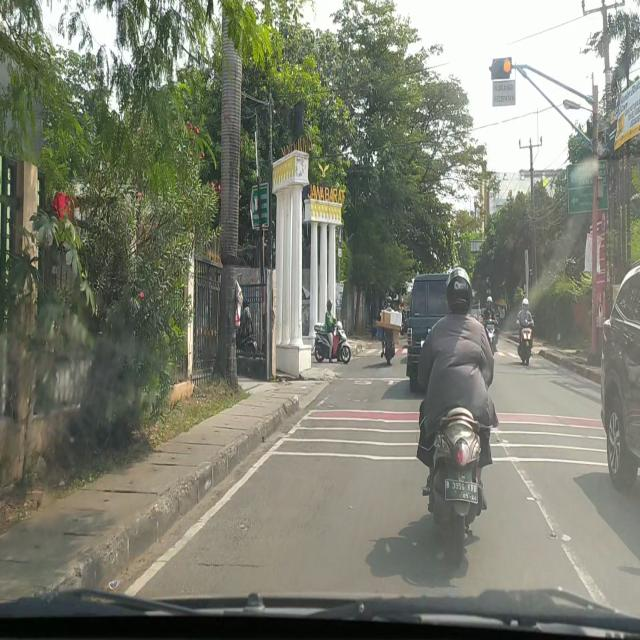Sewer Cover: (193, 558, 260, 569)
